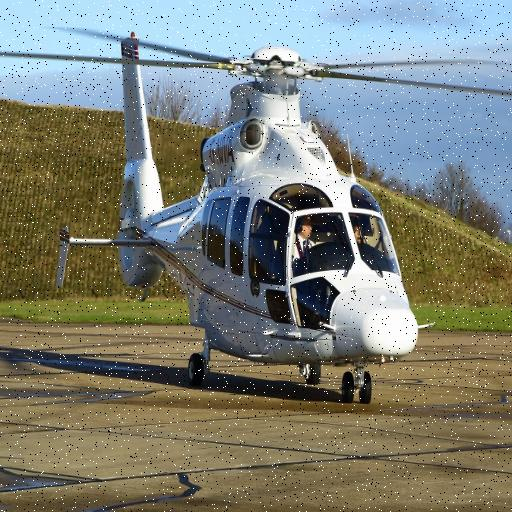helicopter: (1, 11, 512, 425)
